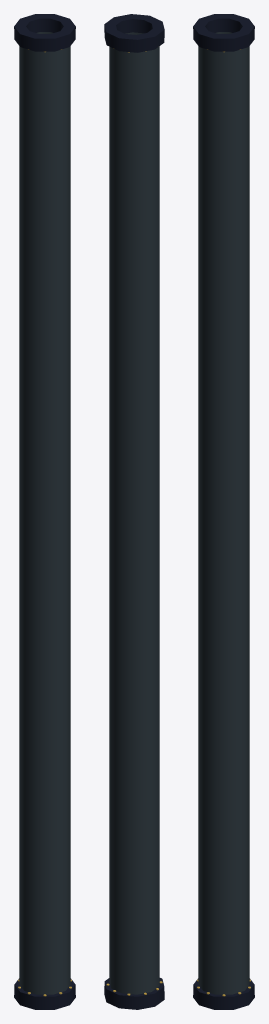
File: P_Straight_10.obj
The picture shows the model from 3 angles, left to right: view 1: azimuth 90°, elevation 25°; view 2: azimuth 150°, elevation 25°; view 3: azimuth 270°, elevation 25°; orthographic projection.
Parts seen in each view (by area): view 1: P_Straight_10_Rohr, P_Straight_10_Verbindung; view 2: P_Straight_10_Rohr, P_Straight_10_Verbindung; view 3: P_Straight_10_Rohr, P_Straight_10_Verbindung.
Part boxes in pixels (x1=…): P_Straight_10_Rohr: x1=19, y1=32, x2=70, y2=994; P_Straight_10_Verbindung: x1=14, y1=14, x2=75, y2=1009; P_Straight_10_Rohr: x1=109, y1=32, x2=159, y2=994; P_Straight_10_Verbindung: x1=104, y1=14, x2=164, y2=1009; P_Straight_10_Rohr: x1=198, y1=32, x2=249, y2=994; P_Straight_10_Verbindung: x1=193, y1=14, x2=254, y2=1009.
Bounding box in the file's own units: 0.6204 × 11.31 × 0.6523.
